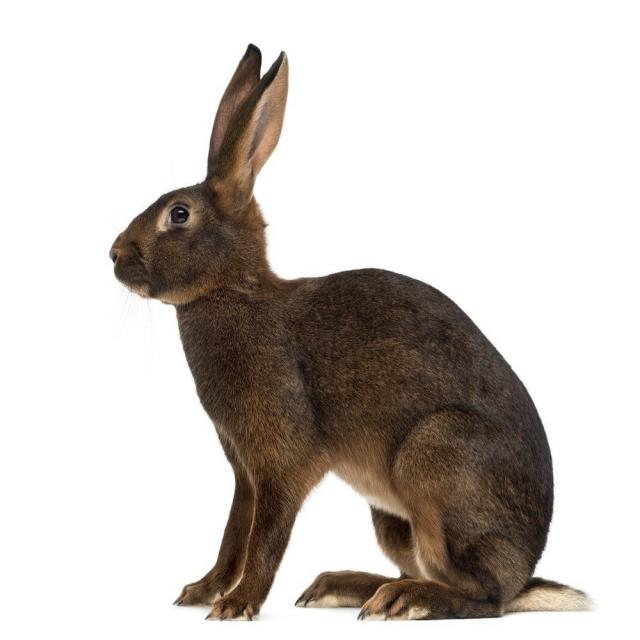hare: (109, 45, 589, 619)
